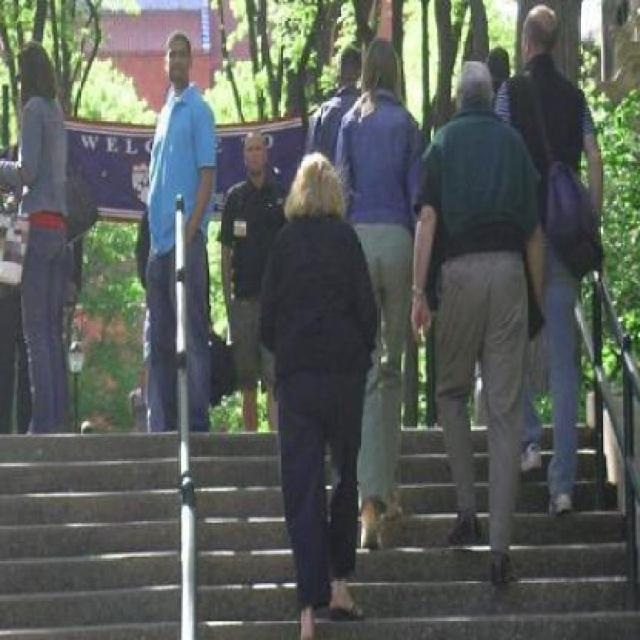Person: (424, 58, 531, 588), (276, 156, 381, 638), (519, 0, 610, 523), (336, 35, 421, 522), (143, 28, 220, 441), (0, 33, 78, 436), (226, 122, 300, 430)
